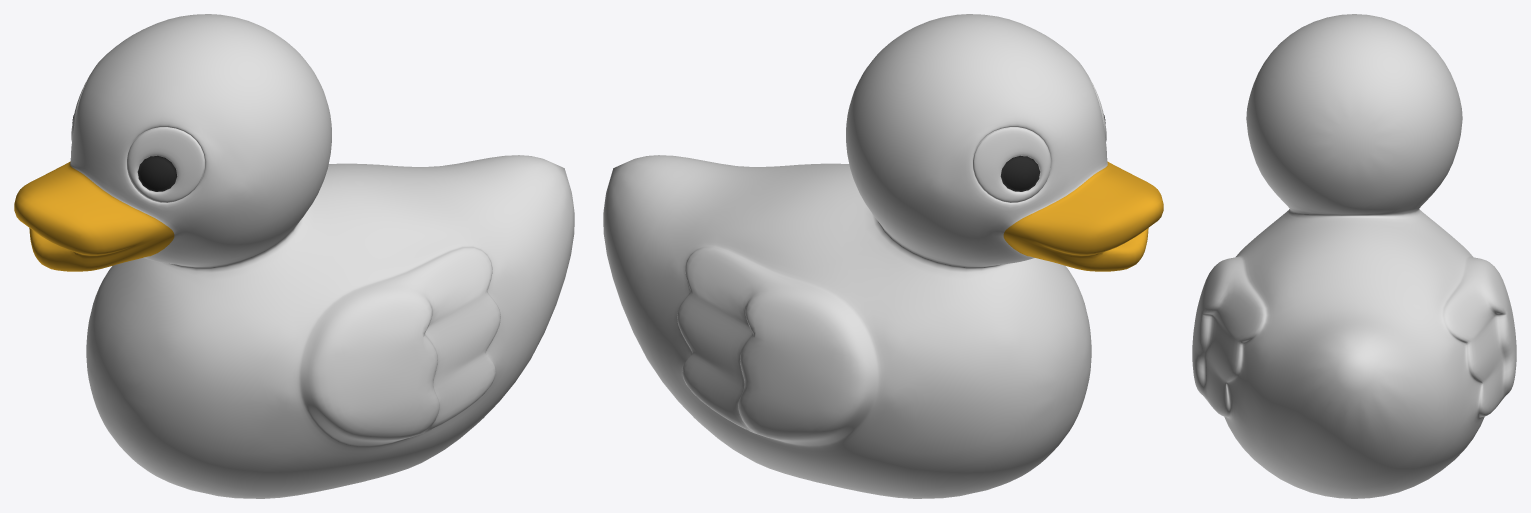
The model's file is Duck.fbx.
3 renders of one model, left to right at view 1: azimuth 30°, elevation 25°; view 2: azimuth 150°, elevation 25°; view 3: azimuth 270°, elevation 25°, orthographic. The views are drawn at different scales.
Visible parts, largest first — view 1: Rubber_duck; view 2: Rubber_duck; view 3: Rubber_duck.
Part boxes in pixels (left/top/right/bottom): Rubber_duck: left=14, top=14, right=574, bottom=498; Rubber_duck: left=603, top=14, right=1163, bottom=498; Rubber_duck: left=1192, top=14, right=1516, bottom=498.
Bounding box in the file's own units: 498 × 405 × 301.
